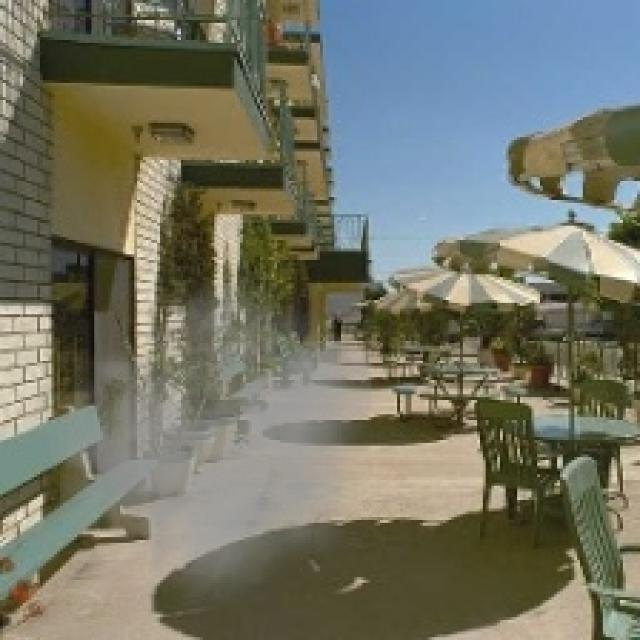smoke: (20, 263, 371, 614)
